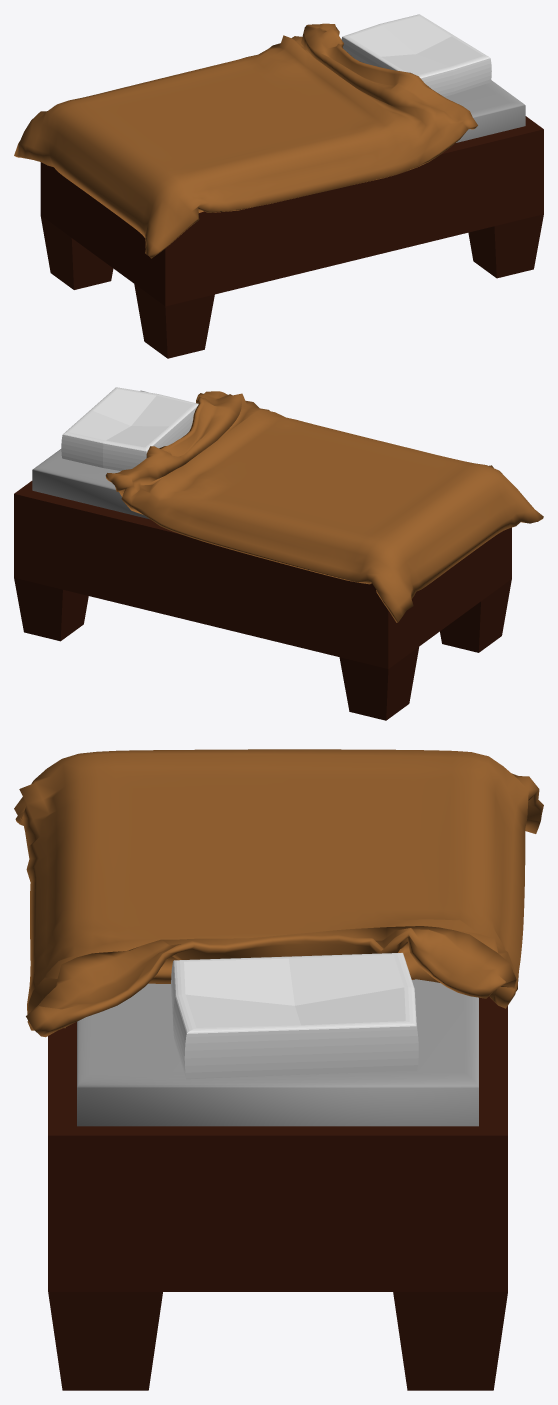
Rendered from Bed.glb.
The picture shows the model from 3 angles, top to bottom: view 1: azimuth 30°, elevation 25°; view 2: azimuth 150°, elevation 25°; view 3: azimuth 270°, elevation 25°; orthographic projection. The views are drawn at different scales.
Parts seen in each view (by area): view 1: Blanket, Bedframe, Pillow, Mattress; view 2: Blanket, Bedframe, Pillow, Mattress; view 3: Blanket, Bedframe, Mattress, Pillow.
Boxes of the visible parts, box(x1,y1,x2,y2) form: Blanket: box(14, 23, 477, 258); Bedframe: box(40, 116, 543, 358); Pillow: box(341, 14, 491, 96); Mattress: box(444, 80, 525, 142); Blanket: box(105, 391, 543, 622); Bedframe: box(14, 481, 511, 720); Pillow: box(61, 387, 198, 470); Mattress: box(32, 390, 149, 519); Blanket: box(14, 749, 543, 1037); Bedframe: box(48, 996, 507, 1390); Mattress: box(77, 979, 478, 1126); Pillow: box(171, 953, 418, 1079).
Bounding box in the file's own units: 3.73 × 1.75 × 2.3.
